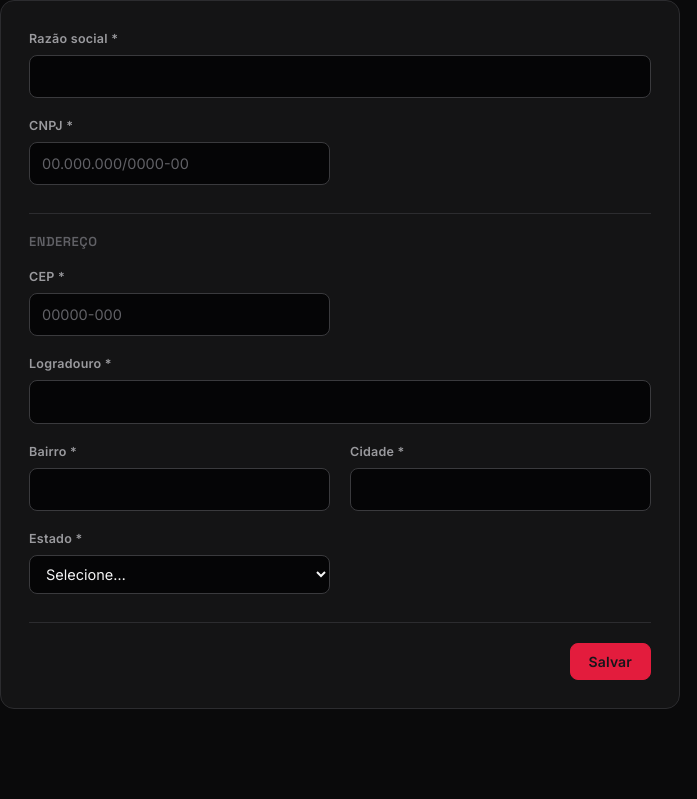
Scenario: DealerForm › shows validation errors and blocks submit when required fields are empty
Step 1. Click the button "Salvar" → (610, 661), box [570,643,651,680]
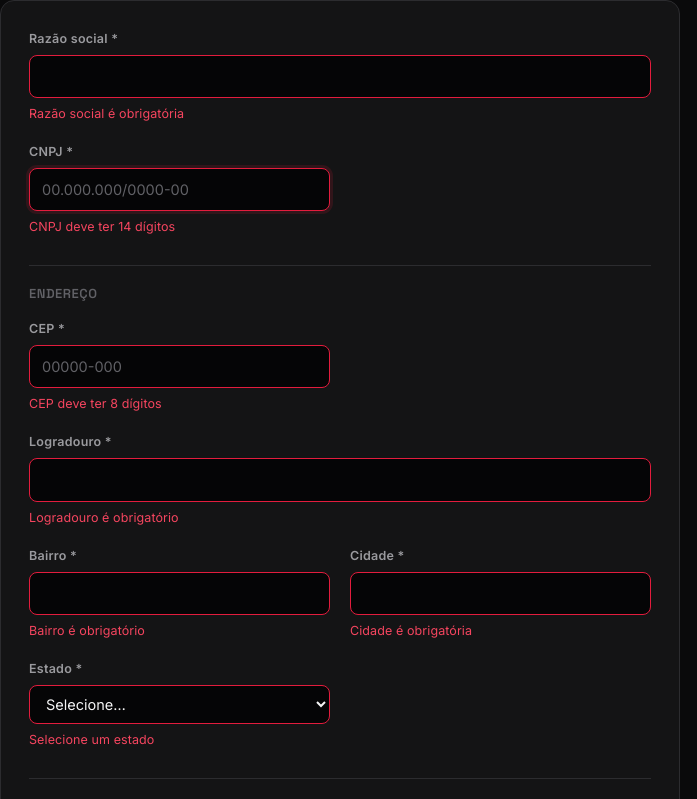
Expected: the text "Razão social é obrigatória" is shown, [29,106,184,121]
Expected: the text "CEP deve ter 8 dígitos" is shown, [29,396,162,412]
Expected: the text "Logradouro é obrigatório" is shown, [29,510,179,525]
